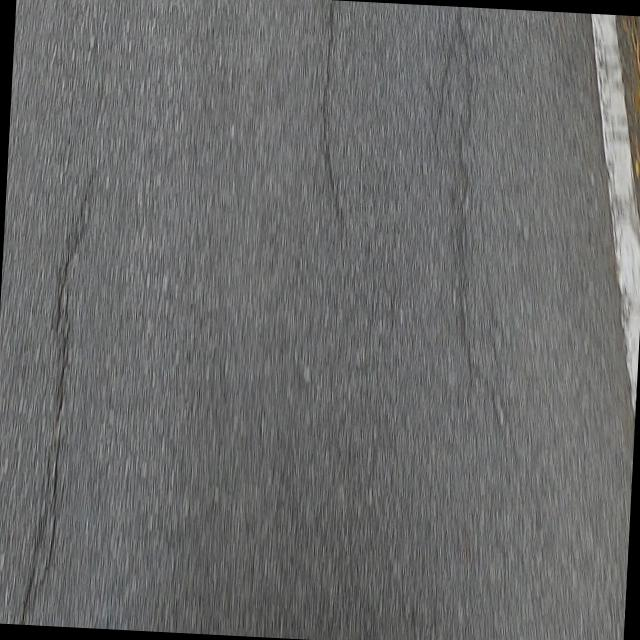Retak-Memanjang: (19, 178, 96, 625), (319, 0, 346, 230)
